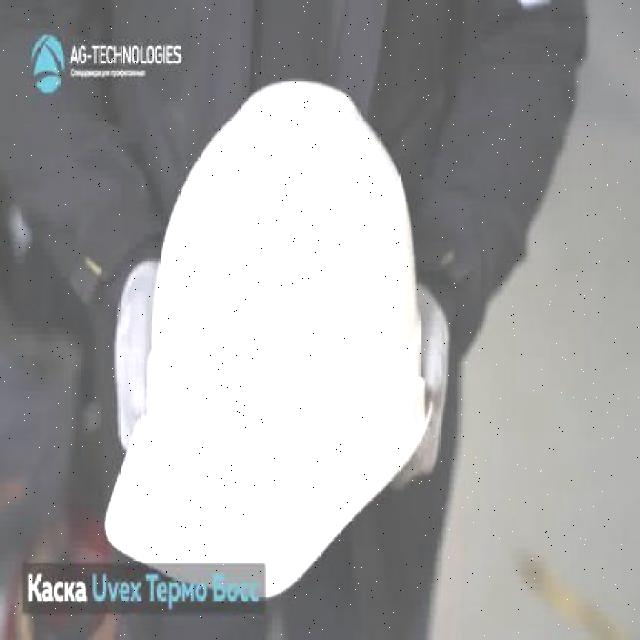Helmet: (104, 74, 432, 602)
